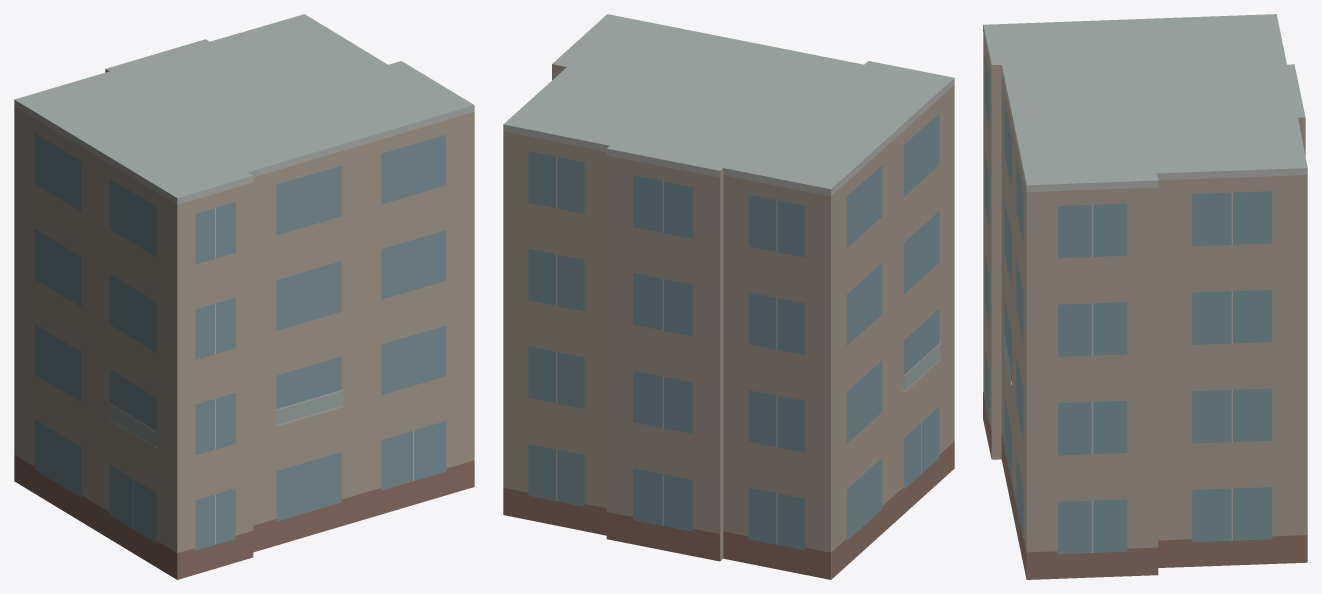
The model's file is survey-upis-32621477.glb.
The picture shows the model from 3 angles, left to right: view 1: azimuth 30°, elevation 25°; view 2: azimuth 150°, elevation 25°; view 3: azimuth 270°, elevation 25°; orthographic projection. The views are drawn at different scales.
Visible parts, largest first — view 1: survey-upis-32621477.tmp; view 2: survey-upis-32621477.tmp; view 3: survey-upis-32621477.tmp.
Part boxes in pixels (left/top/right/bottom): survey-upis-32621477.tmp: left=14, top=14, right=474, bottom=579; survey-upis-32621477.tmp: left=503, top=14, right=954, bottom=579; survey-upis-32621477.tmp: left=983, top=14, right=1307, bottom=579.
Size of the model in its own units: 12.86 by 13.8 by 10.3.
